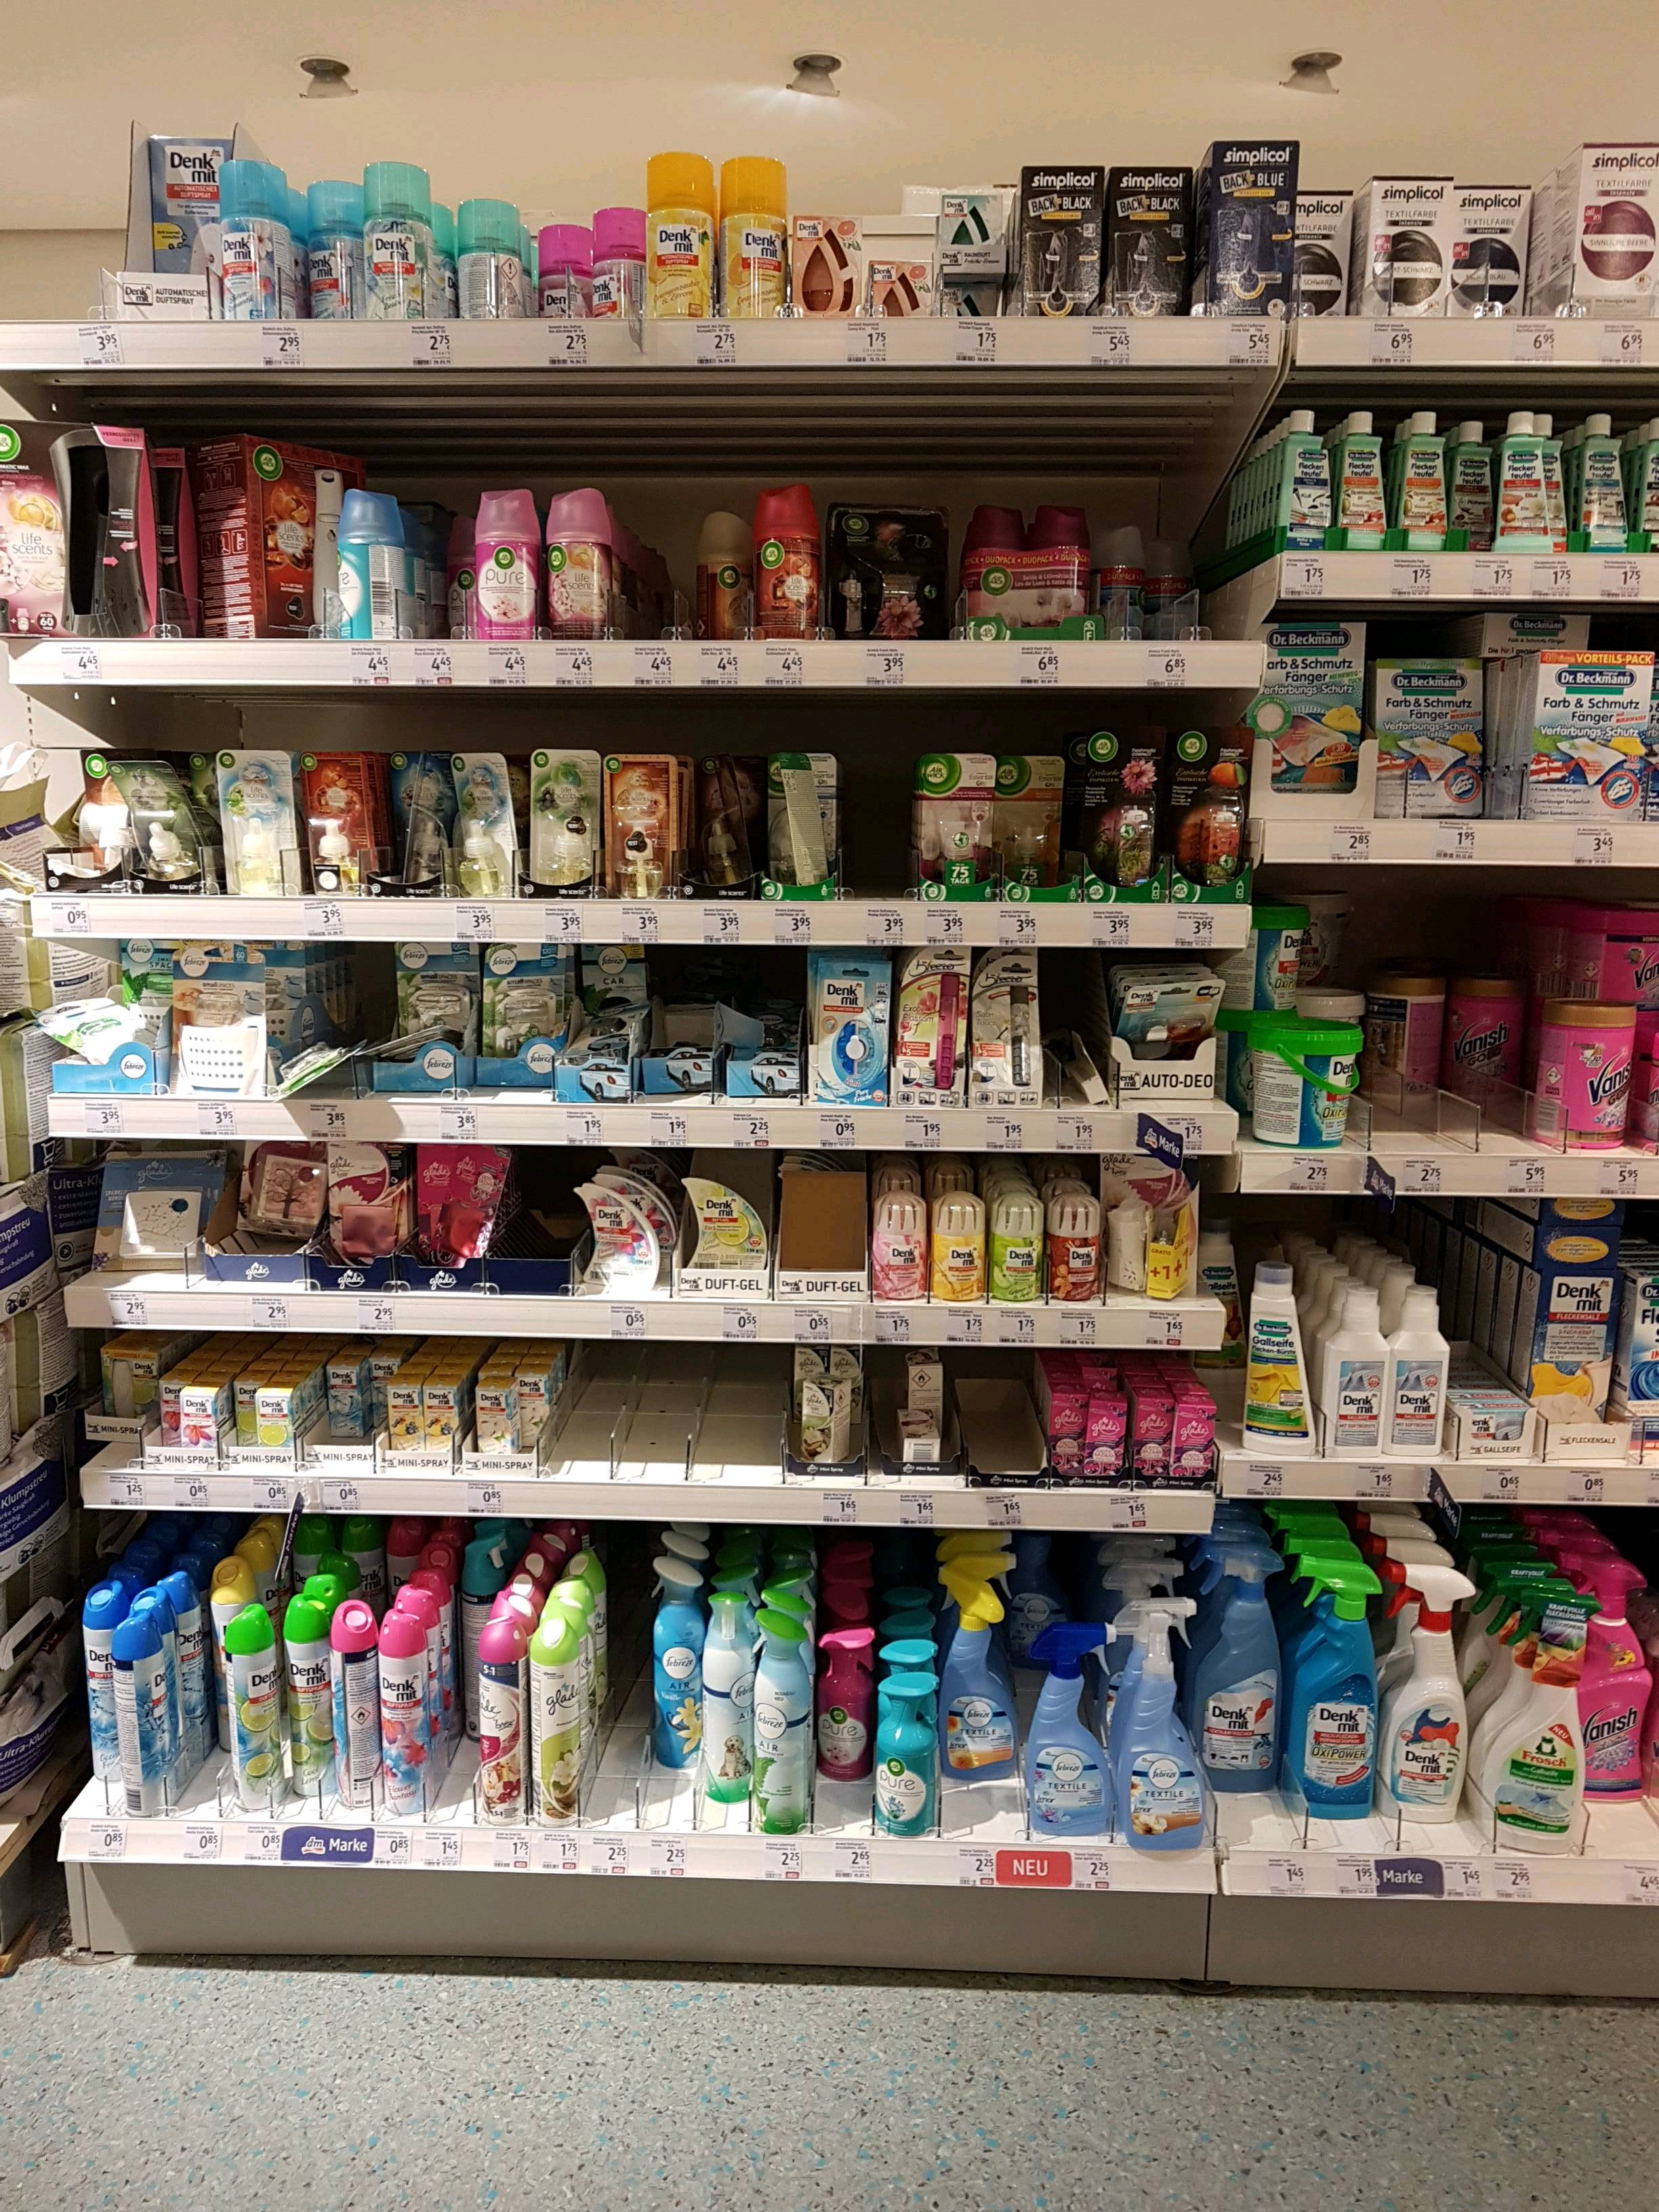Out-of-stock: (958, 1346, 1047, 1491)
